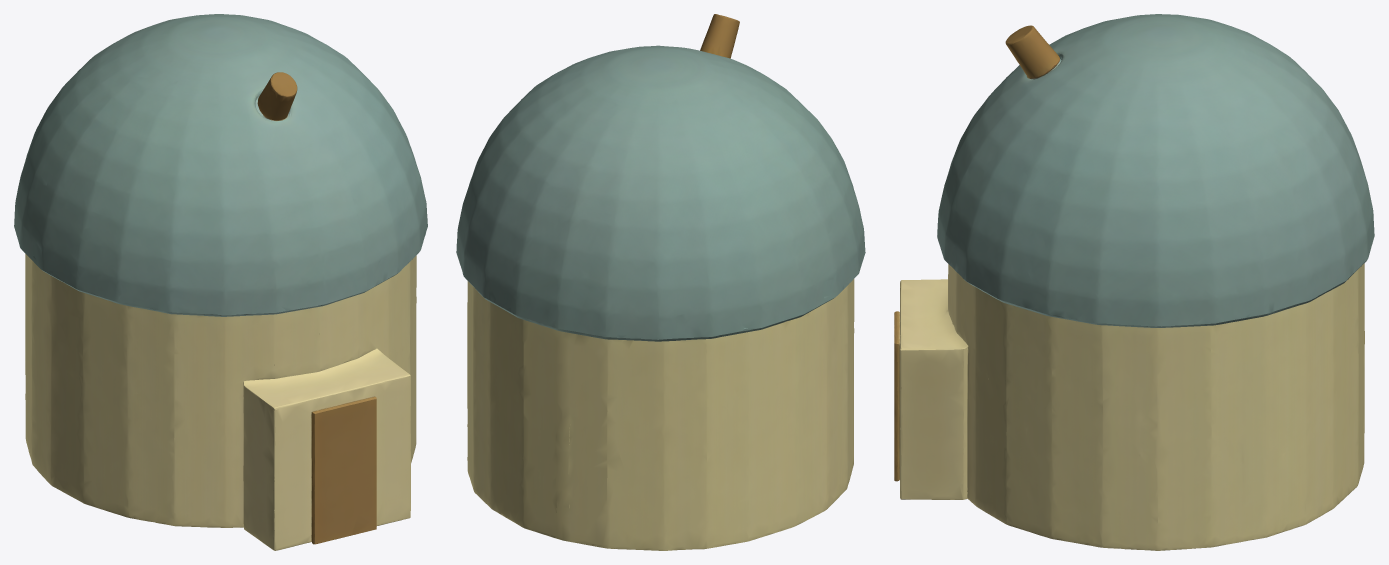
3 views of the same model, side by side, from view 1: azimuth 30°, elevation 25°; view 2: azimuth 150°, elevation 25°; view 3: azimuth 270°, elevation 25° (orthographic). The views are drawn at different scales.
Visible parts, largest first — view 1: model; view 2: model; view 3: model.
Part boxes in pixels (box(x1,y1,x2,y2)): model: box(14, 14, 427, 550); model: box(456, 14, 865, 550); model: box(894, 14, 1374, 550).
Size of the model in its own units: 1.71 by 1.9 by 1.89.
Materials: 1 (1 with a texture image).
